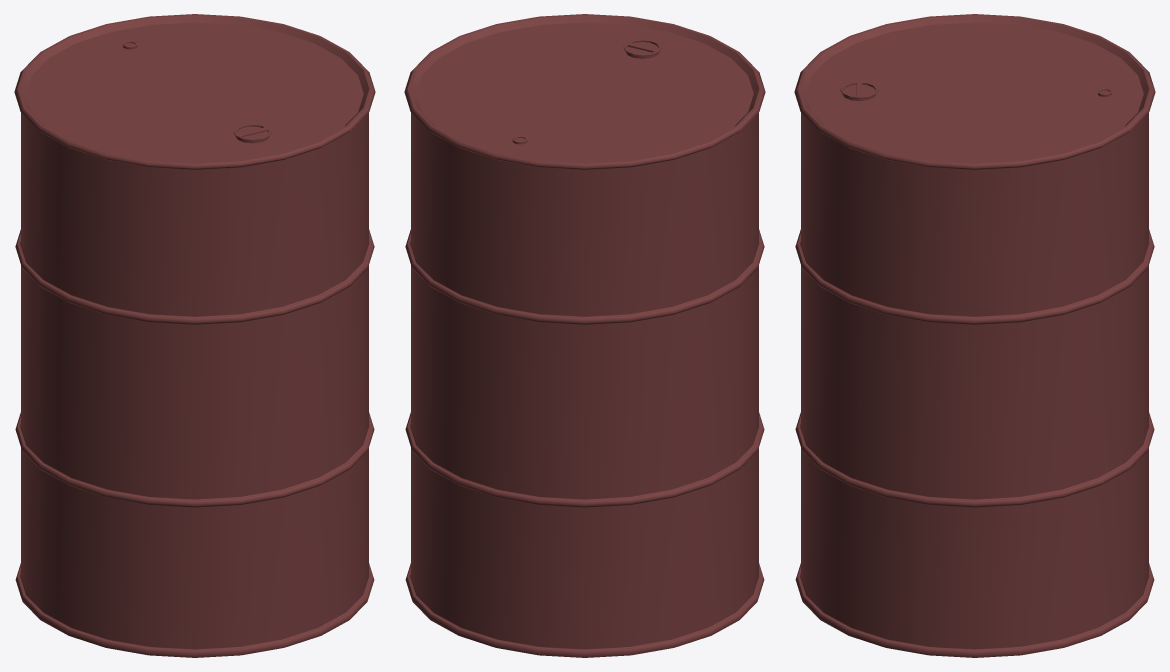
File: barrel.fbx
3 views of the same model, side by side, from view 1: azimuth 30°, elevation 25°; view 2: azimuth 150°, elevation 25°; view 3: azimuth 270°, elevation 25° (orthographic).
Visible parts, largest first — view 1: Barrel; view 2: Barrel; view 3: Barrel.
Boxes of the visible parts, x1,y1,x2,y2 form: Barrel: (14,14,375,657); Barrel: (404,14,765,657); Barrel: (794,14,1155,657).
Size of the model in its own units: 50.06 by 75.47 by 50.06.
